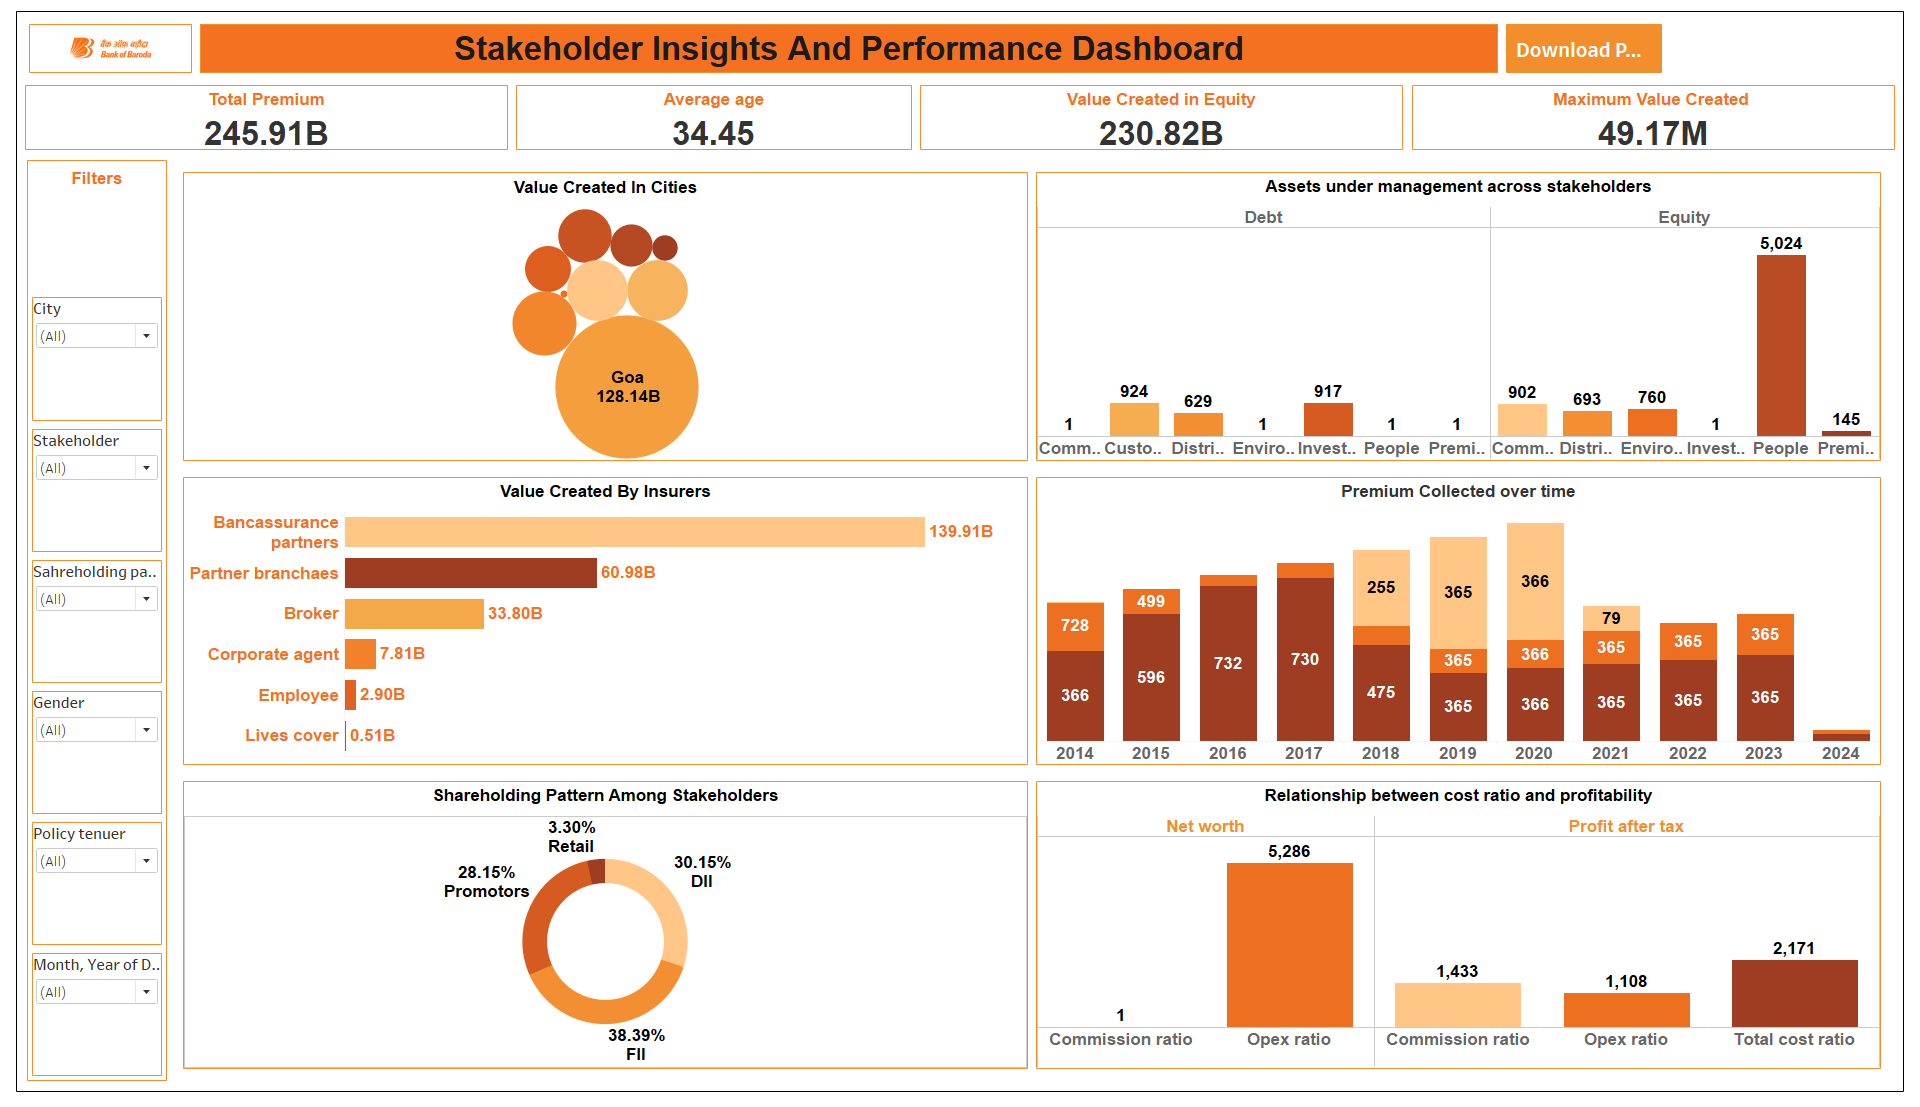

This screenshot's page, from the dashboard's own definition file:
{"tool":"tableau","page":{"name":"Dashboard 1","canvas":[1000,1000],"units":"permille","ordinal":0},"visuals":[{"type":"image","param":"Image/Bank-of-Baroda-logo.png","box":[15.1,27.1,103.2,61.9]},{"type":"text","box":[118.3,27.1,788.2,61.9]},{"type":"dashboard-object","box":[906.4,27.1,78.5,61.9]},{"type":"worksheet","title":"Total Premium","mark":"Automatic","box":[12.7,93.4,243.6,79.3]},{"type":"worksheet","title":"Average age","mark":"Automatic","box":[256.3,93.4,243.8,79.3]},{"type":"worksheet","title":"Value Created in Equity","mark":"Automatic","box":[500.1,93.4,243.6,79.3]},{"type":"worksheet","title":"Maximum Value Created ","mark":"Automatic","box":[743.7,93.4,243.6,79.3]},{"type":"worksheet","title":"Filters","mark":"Automatic","box":[16.9,180.2,83.3,112.9]},{"type":"worksheet","title":"Value Created In Cities","mark":"Circle","box":[108,187.8,435.7,253]},{"type":"worksheet","title":"Assets under management across stakeholders","mark":"Automatic","rows":["Assets under management"],"cols":["Assets under management","Stakeholder"],"box":[543.8,187.8,435.1,253]},{"type":"filter","title":"Filters","param":"[federated.0m6mjfn022m583188r8a01xsfozv].[none:City:nk]","box":[16.9,293.2,83.3,112.9]},{"type":"filter","title":"Filters","param":"[federated.0m6mjfn022m583188r8a01xsfozv].[none:Stakeholder:nk]","box":[16.9,406.1,83.3,112.9]},{"type":"worksheet","title":"Value Created By Insurers","mark":"Automatic","rows":["Insurer"],"cols":["Value Created"],"box":[108,449.5,435.7,251.9]},{"type":"worksheet","title":"Premium Collected over time","mark":"Bar","rows":["Value Created"],"cols":["Date"],"box":[543.8,449.5,435.1,251.9]},{"type":"filter","title":"Filters","param":"[federated.0m6mjfn022m583188r8a01xsfozv].[none:Sahreholding pattern:nk]","box":[16.9,519,83.3,112.9]},{"type":"filter","title":"Filters","param":"[federated.0m6mjfn022m583188r8a01xsfozv].[none:Gender:nk]","box":[16.9,631.9,83.3,112.9]},{"type":"worksheet","title":"Shareholding Pattern Among Stakeholders","mark":"Circle","rows":["Calculation_1178817210023587840","Calculation_1178817210023587840"],"box":[108,710.1,435.7,251.9]},{"type":"worksheet","title":"Relationship between cost ratio and profitability","mark":"Automatic","rows":["Cost ratio"],"cols":["Profitability","Cost ratio"],"box":[543.8,710.1,435.1,251.9]},{"type":"filter","title":"Filters","param":"[federated.0m6mjfn022m583188r8a01xsfozv].[none:Policy tenuer:nk]","box":[16.9,744.8,83.3,112.9]},{"type":"filter","title":"Filters","param":"[federated.0m6mjfn022m583188r8a01xsfozv].[my:Date:ok]","box":[16.9,857.8,83.3,111.8]}]}

Visuals, with their boxes on the dashboard's canvas, which has no fixed pixel size, in thousandths of its width and height (x1, y1, x2, y2). These are canvas units, not pixel positions in the 1920x1107 screenshot, which may show the page scaled, cropped or inside an application window:
image: box(15, 27, 118, 89)
text: box(118, 27, 906, 89)
dashboard-object: box(906, 27, 985, 89)
"Total Premium" worksheet: box(13, 93, 256, 173)
"Average age" worksheet: box(256, 93, 500, 173)
"Value Created in Equity" worksheet: box(500, 93, 744, 173)
"Maximum Value Created " worksheet: box(744, 93, 987, 173)
"Filters" worksheet: box(17, 180, 100, 293)
"Value Created In Cities" worksheet (Circle marks): box(108, 188, 544, 441)
"Assets under management across stakeholders" worksheet: box(544, 188, 979, 441)
"Filters" filter: box(17, 293, 100, 406)
"Filters" filter: box(17, 406, 100, 519)
"Value Created By Insurers" worksheet: box(108, 450, 544, 701)
"Premium Collected over time" worksheet (Bar marks): box(544, 450, 979, 701)
"Filters" filter: box(17, 519, 100, 632)
"Filters" filter: box(17, 632, 100, 745)
"Shareholding Pattern Among Stakeholders" worksheet (Circle marks): box(108, 710, 544, 962)
"Relationship between cost ratio and profitability" worksheet: box(544, 710, 979, 962)
"Filters" filter: box(17, 745, 100, 858)
"Filters" filter: box(17, 858, 100, 970)
